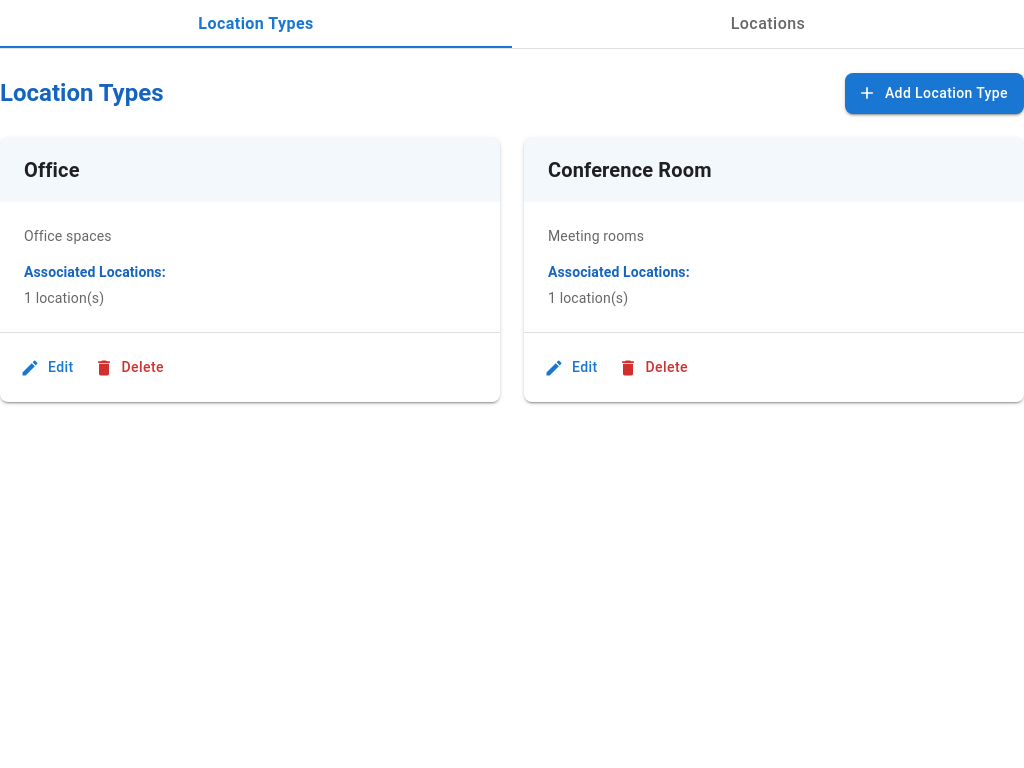
Test: LocationManagement › handles location type creation
This screenshot has width=1024, height=768.
Open dialog and fill form
Click the button "Add Location Type" at (934, 93), box left=845, top=73, right=1023, bottom=114
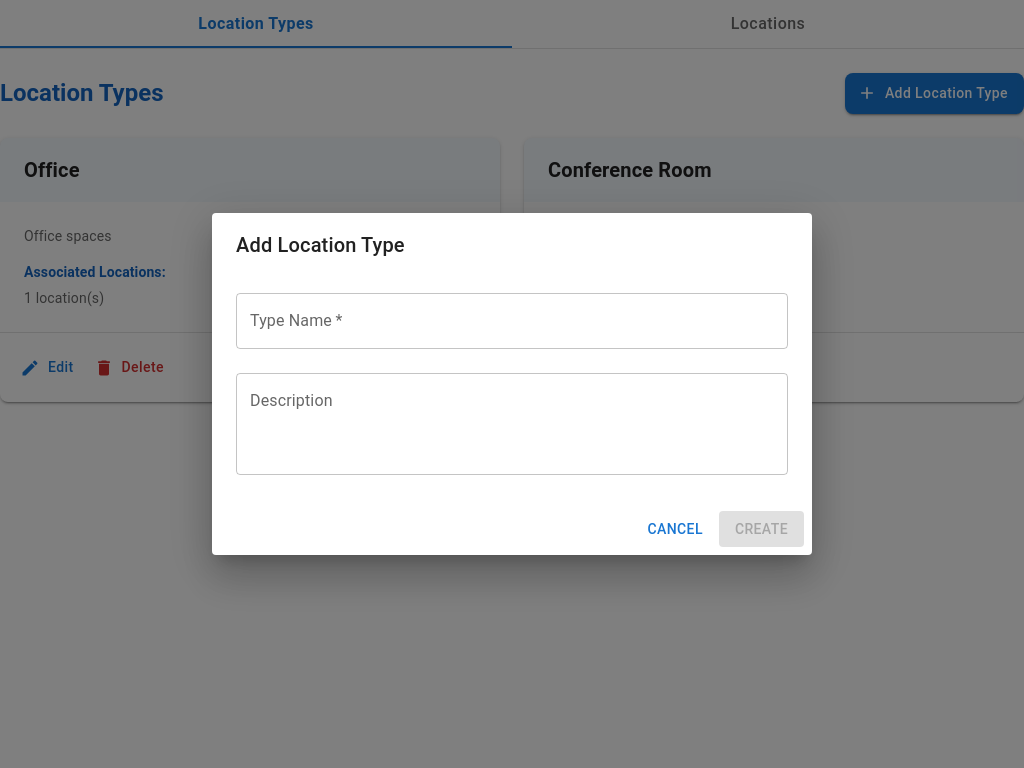
Type "Lab" into the field labelled "Type Name *" at (512, 321), box left=236, top=293, right=788, bottom=349
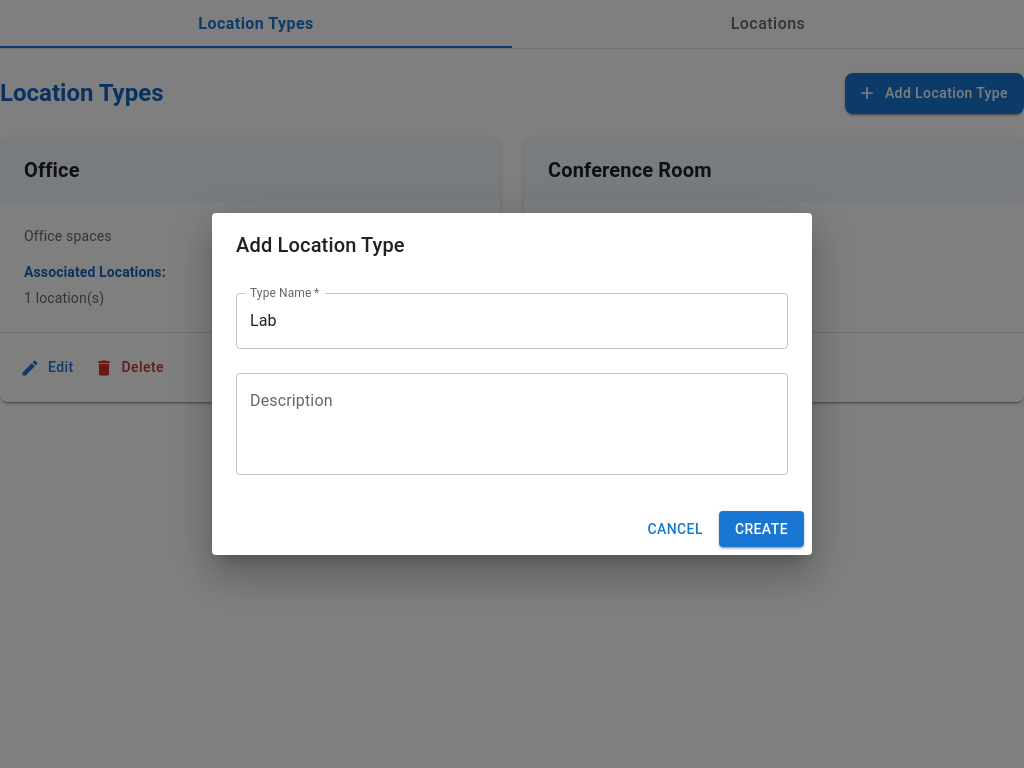
Type "Laboratory space" into the text box labelled "Description" at (512, 424), box left=250, top=389, right=774, bottom=458
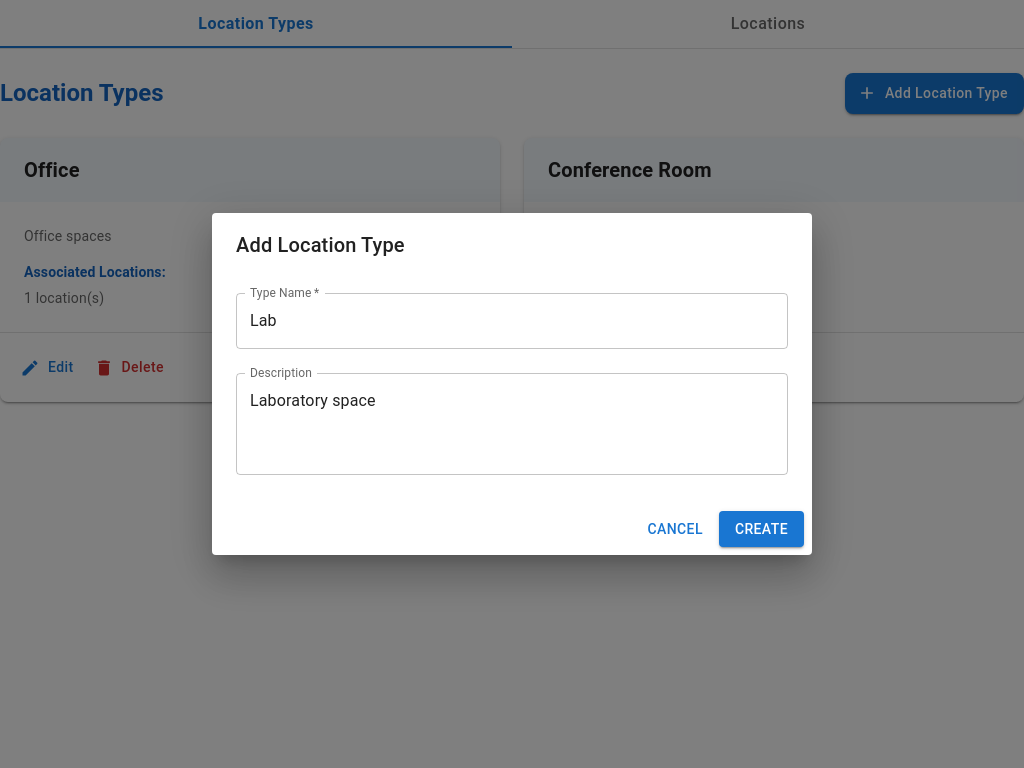
Submit form
Click the button "Create" at (761, 529), box left=719, top=511, right=804, bottom=547
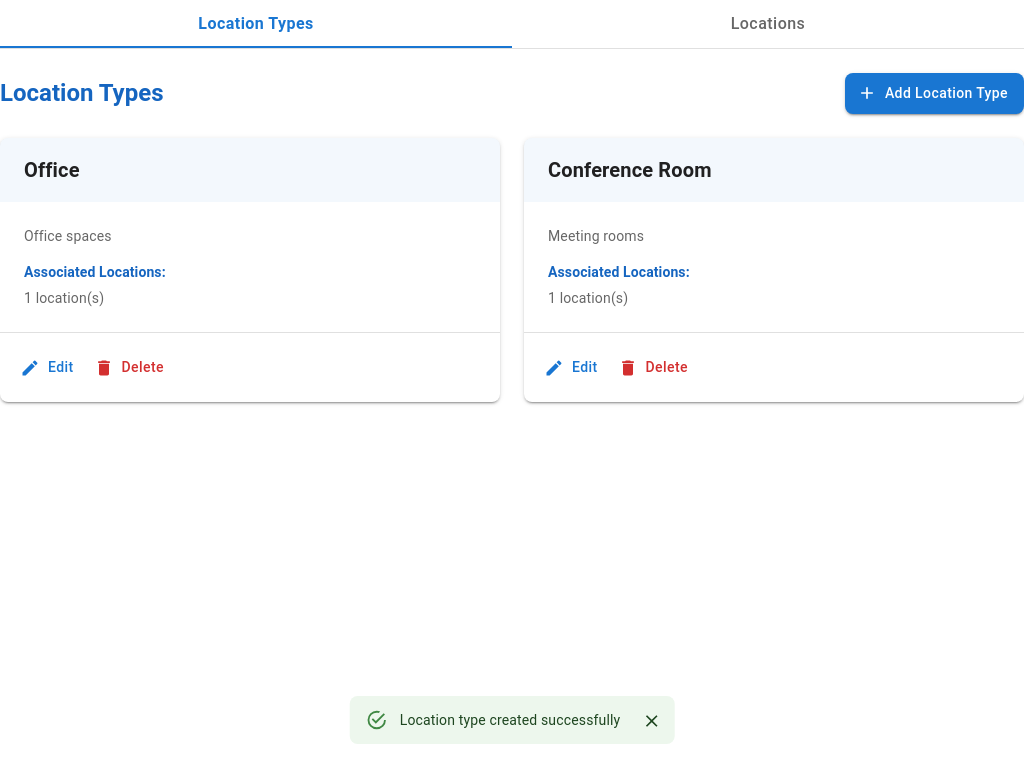
Check: the text "Location type created successfully" is shown, box left=400, top=712, right=620, bottom=728
